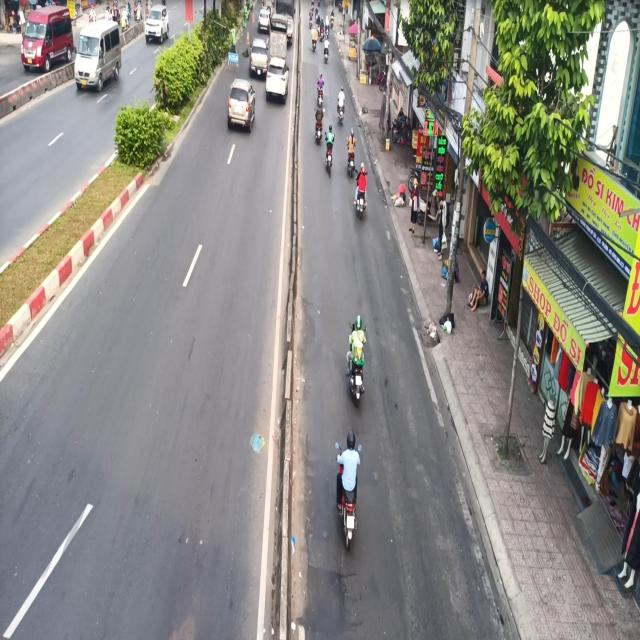car: (227, 74, 257, 130), (264, 56, 291, 107)
motor: (333, 434, 364, 570), (342, 310, 373, 416), (354, 158, 369, 216), (322, 124, 337, 178)
